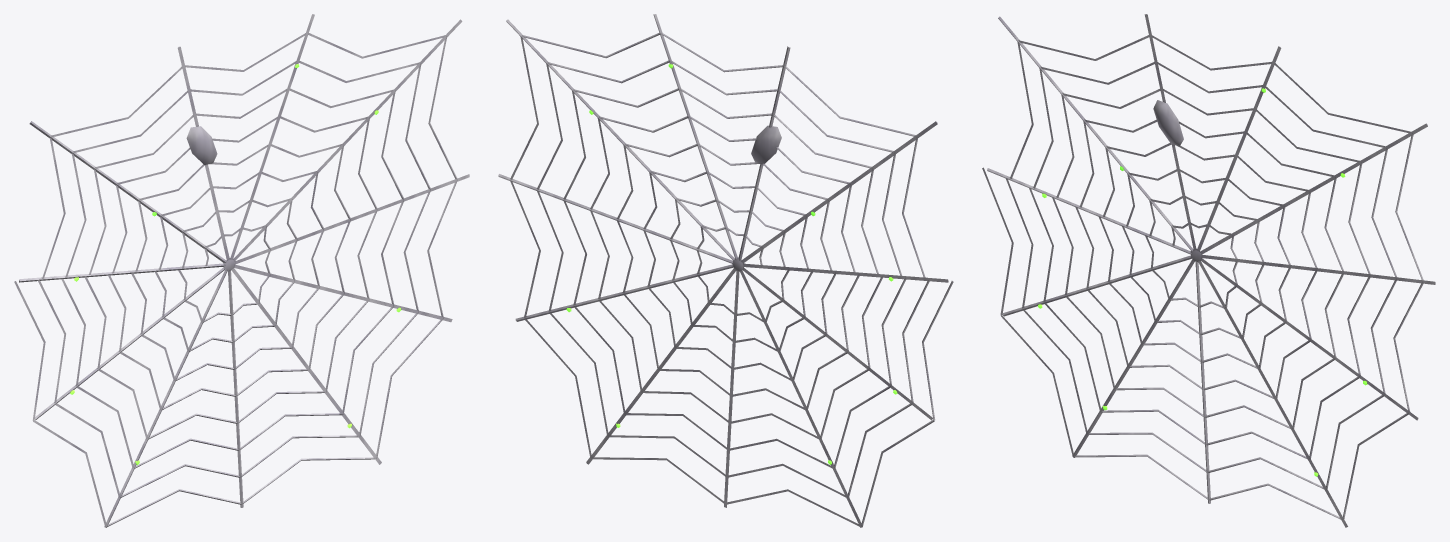
The model's file is telarana_gigante.fbx.
3 renders of one model, left to right at view 1: azimuth 30°, elevation 25°; view 2: azimuth 150°, elevation 25°; view 3: azimuth 330°, elevation 25°, orthographic.
Visible parts, largest first — view 1: telarana; view 2: telarana; view 3: telarana.
Part boxes in pixels (box(x1,y1,x2,y2)): telarana: box(14, 14, 469, 527); telarana: box(498, 14, 953, 527); telarana: box(982, 14, 1435, 527).
Bounding box in the file's own units: 6 × 6 × 0.1.
Materials: 1 (1 with a texture image).
